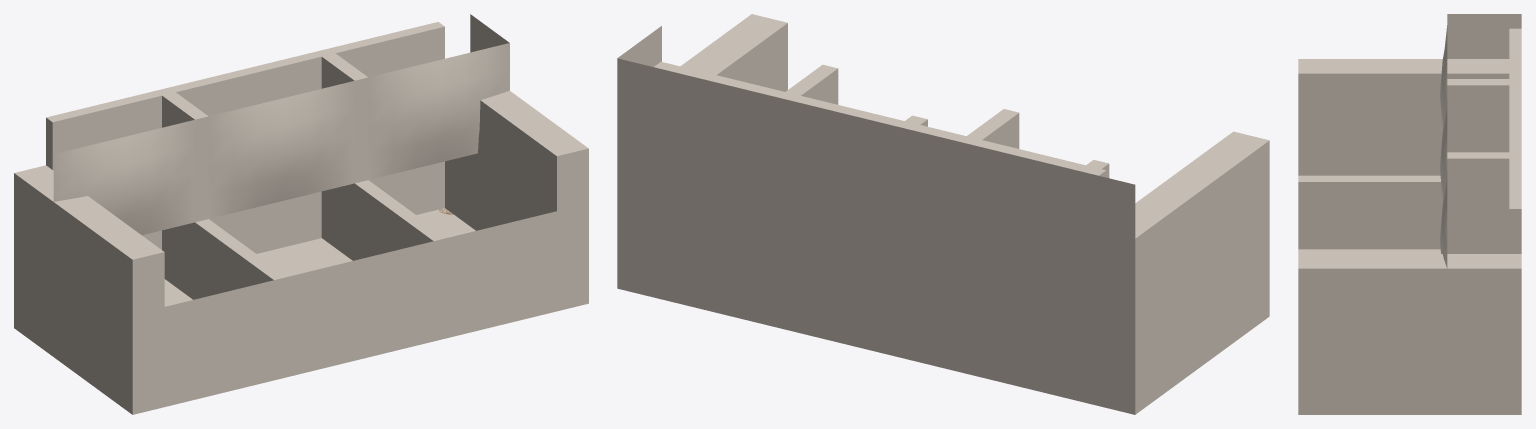
File: sofa.glb
3 renders of one model, left to right at view 1: azimuth 30°, elevation 25°; view 2: azimuth 150°, elevation 25°; view 3: azimuth 270°, elevation 25°, orthographic. The views are drawn at different scales.
Size of the model in its own units: 2 by 0.85 by 0.9.
